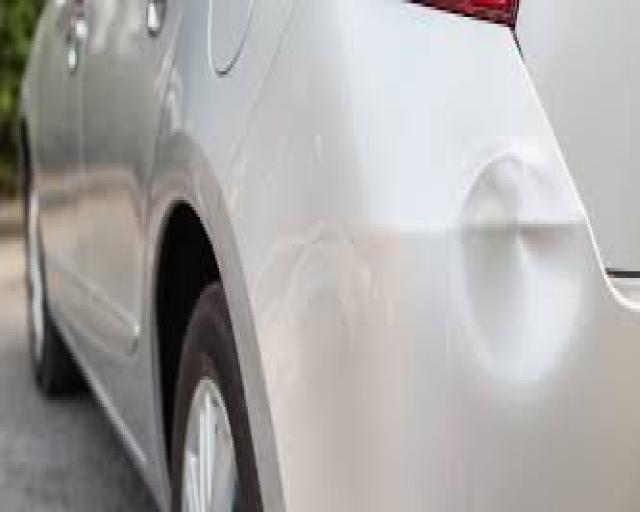dent: (450, 143, 587, 419)
